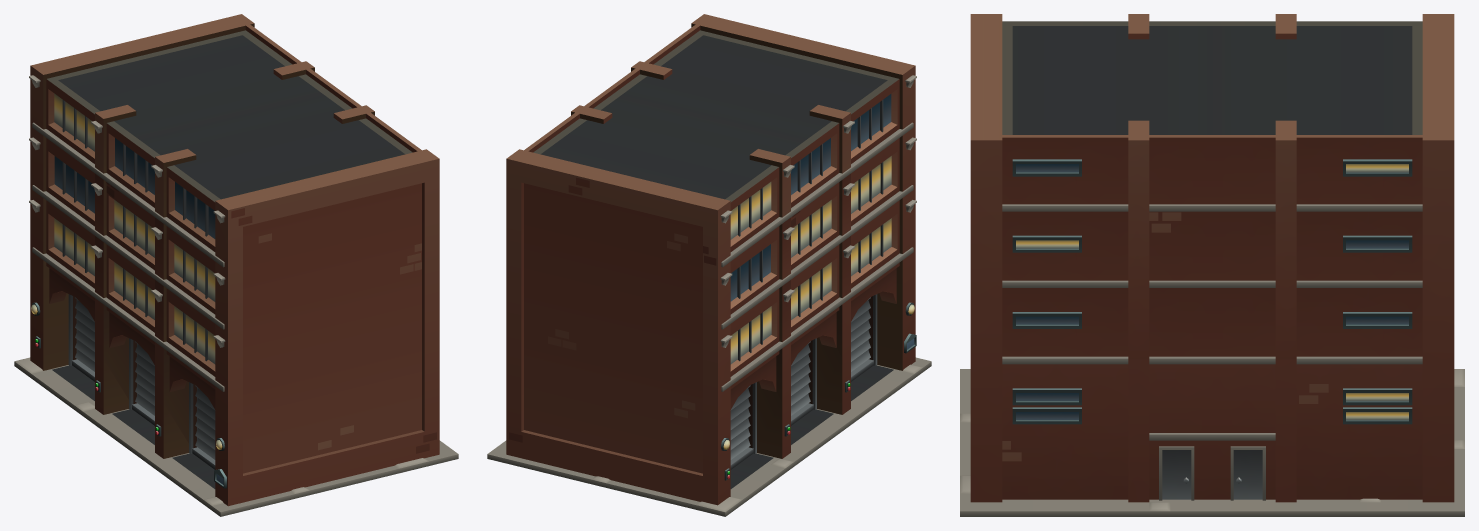
The model's file is Building_15A.fbx.
The picture shows the model from 3 angles, left to right: view 1: azimuth 30°, elevation 25°; view 2: azimuth 150°, elevation 25°; view 3: azimuth 270°, elevation 25°; orthographic projection. The views are drawn at different scales.
Parts seen in each view (by area): view 1: Building_15A, Window_Lights_15A, Addon_Gate_15A.R, Addon_Gate_15A.L, Addon_Gate_15A.M; view 2: Building_15A, Window_Lights_15A, Addon_Gate_15A.L, Addon_Gate_15A.R, Addon_Gate_15A.M; view 3: Building_15A, Window_Lights_15A.
Part boxes in pixels (bbox=[...]): Building_15A: bbox=[14, 14, 458, 516]; Window_Lights_15A: bbox=[54, 93, 215, 364]; Addon_Gate_15A.R: bbox=[192, 385, 215, 469]; Addon_Gate_15A.L: bbox=[72, 297, 94, 381]; Addon_Gate_15A.M: bbox=[132, 341, 154, 425]; Building_15A: bbox=[487, 14, 931, 516]; Window_Lights_15A: bbox=[730, 156, 891, 364]; Addon_Gate_15A.L: bbox=[730, 385, 753, 469]; Addon_Gate_15A.R: bbox=[851, 297, 873, 381]; Addon_Gate_15A.M: bbox=[791, 341, 813, 425]; Building_15A: bbox=[960, 14, 1464, 516]; Window_Lights_15A: bbox=[1016, 164, 1408, 420].
Bounding box in the file's own units: 16 × 19.3 × 24.
